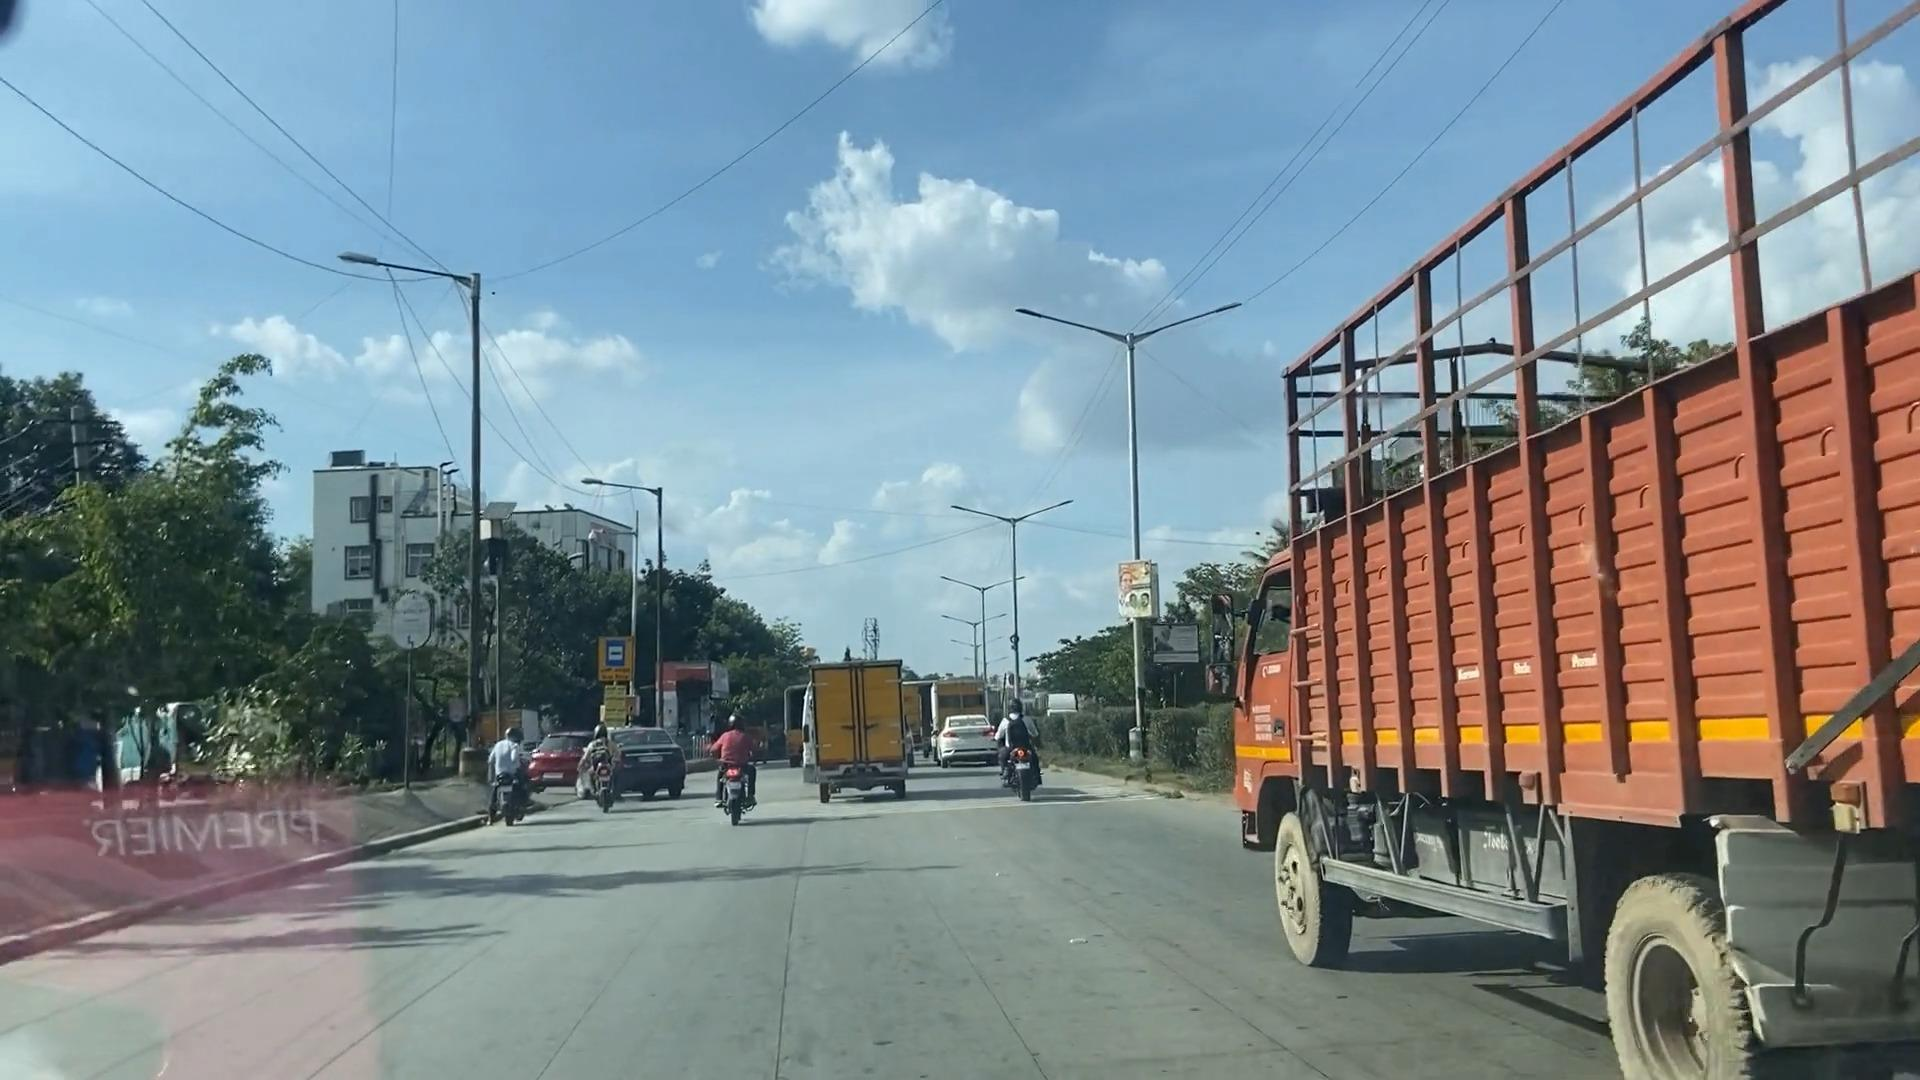HMV: (1229, 305, 1920, 1080), (804, 657, 916, 796)
LMV: (989, 700, 1055, 789), (708, 728, 758, 822)
